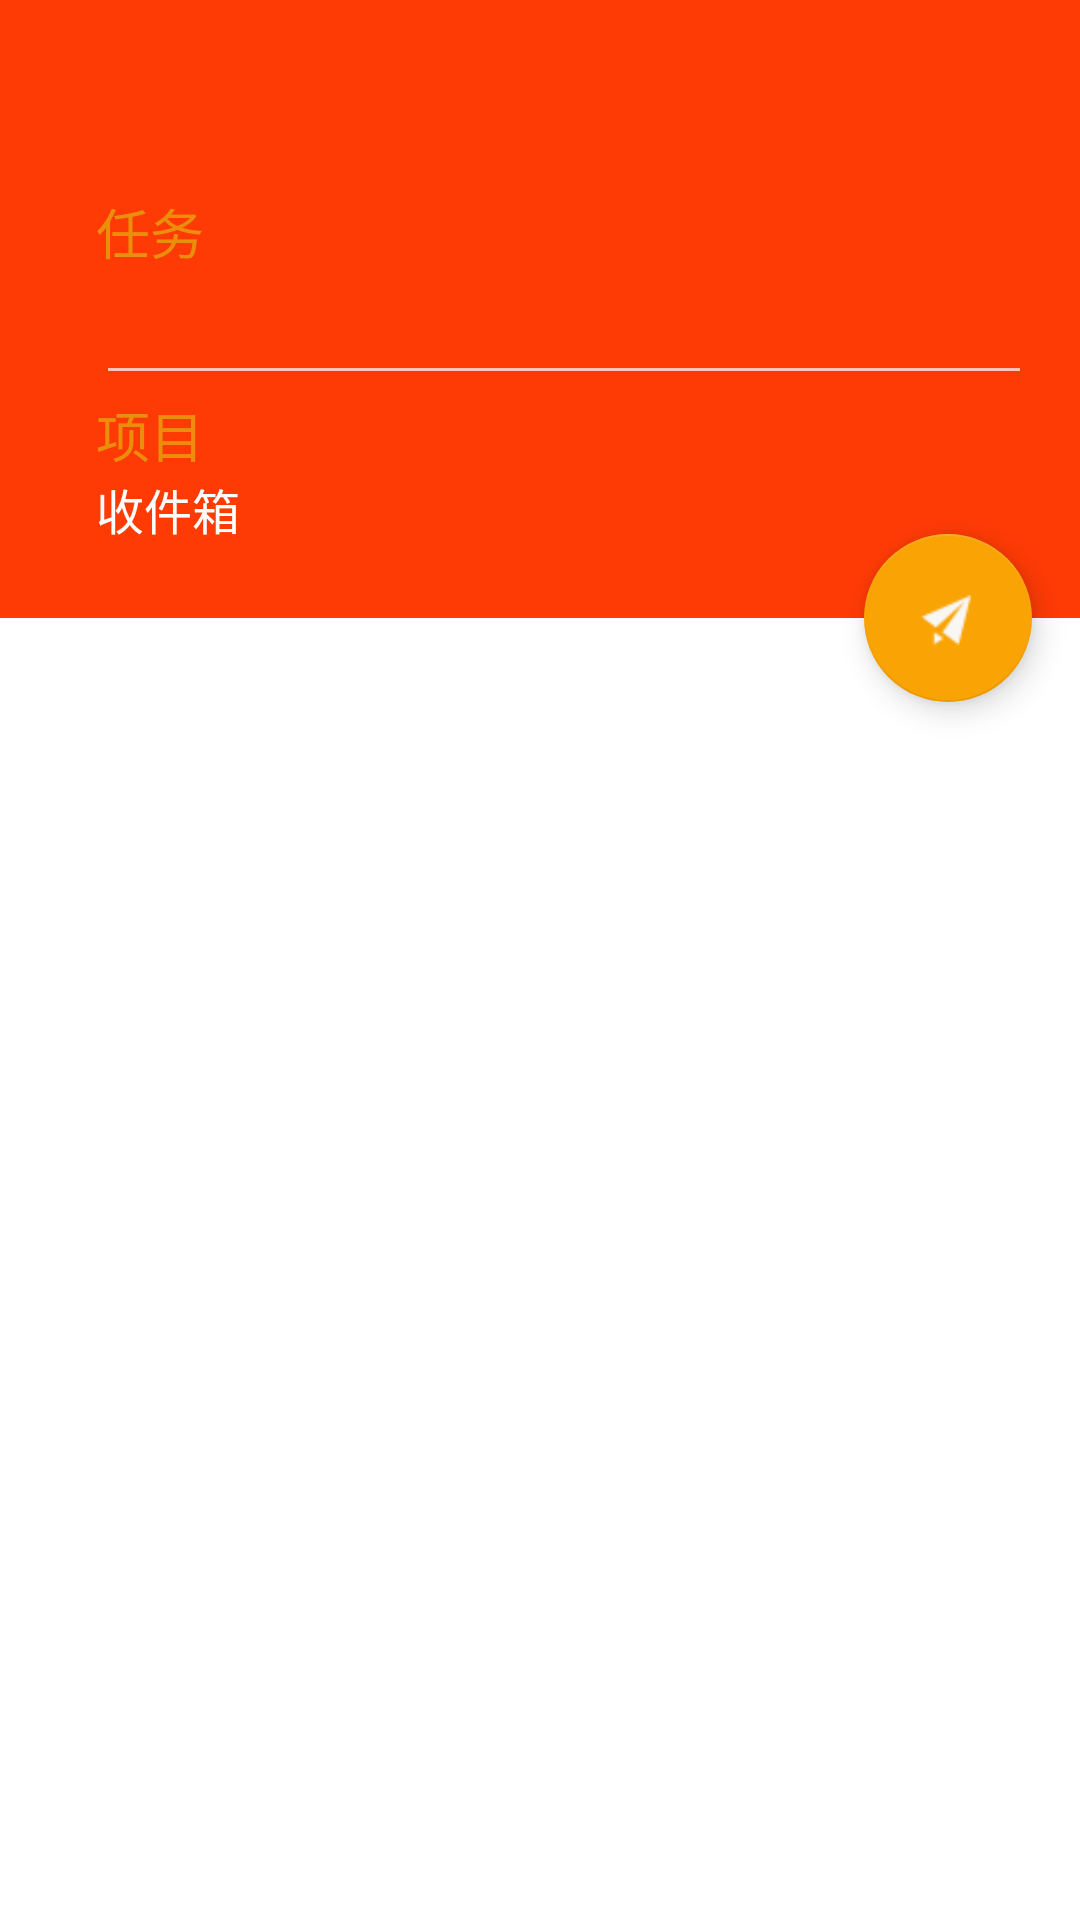

Icon click points for this 1080w x 1920h phone screenshot, format (x,y):
feiji: (948,618)
